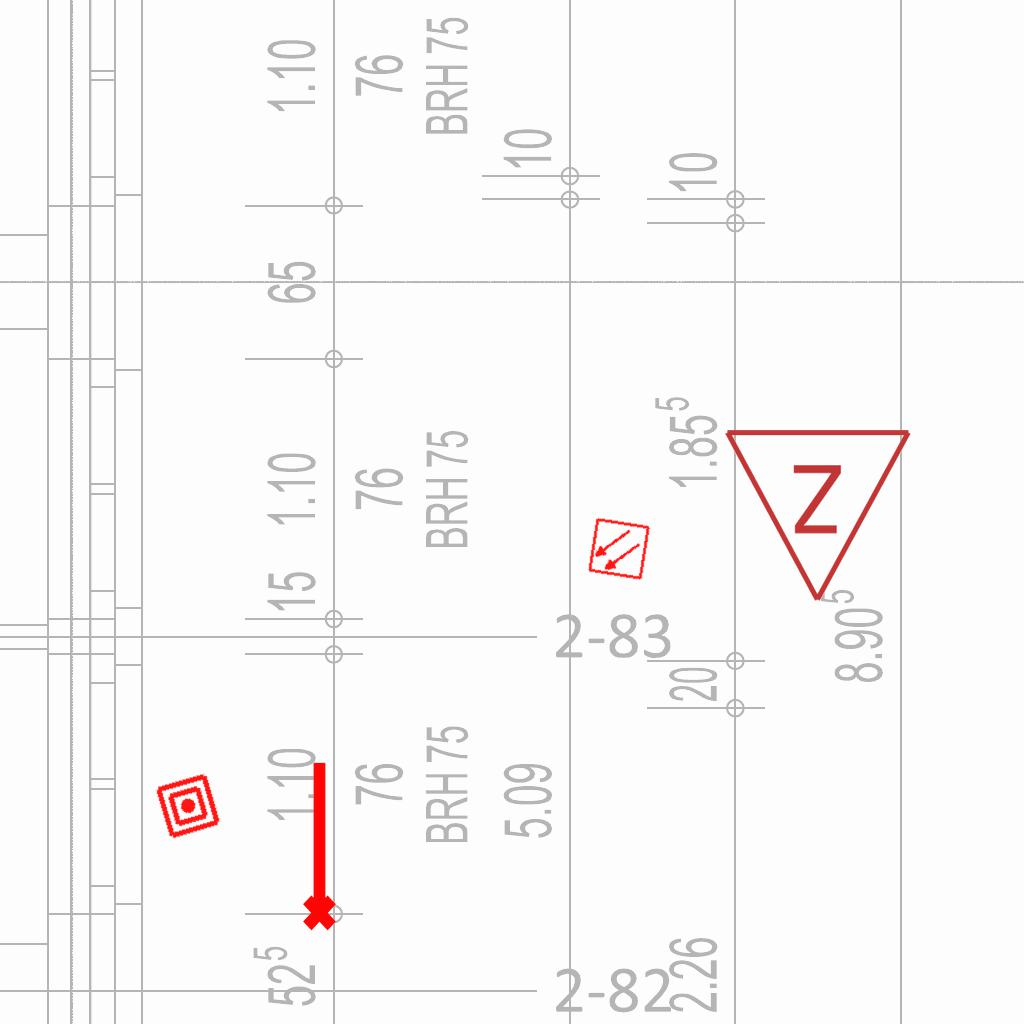ASR_Ansaugoeffnung: (294, 757, 340, 933)
NAM-Nichtautomatischer_Melder: (153, 771, 223, 841)
RMO_Rauchmelder_optischer: (586, 516, 652, 582)
Zimmersignalleuchte: (722, 415, 918, 615)
